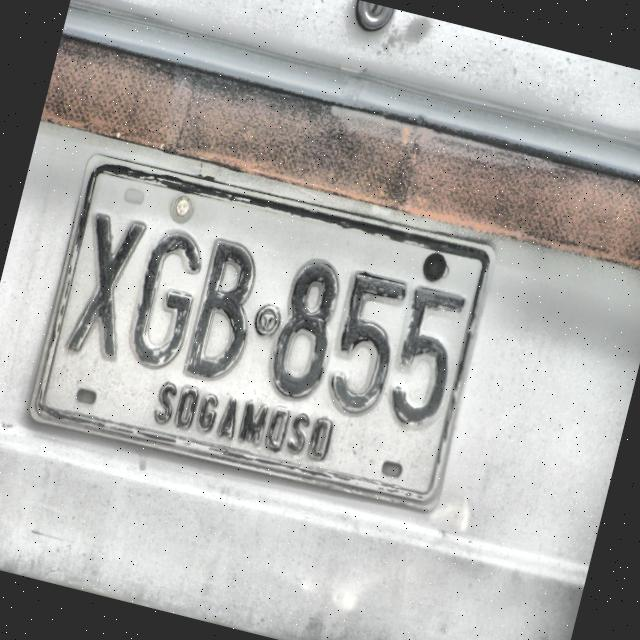5: (376, 277, 474, 439), (319, 266, 413, 424)
8: (262, 253, 352, 408)
B: (178, 232, 272, 390)
G: (117, 220, 213, 380)
X: (60, 208, 152, 367)
